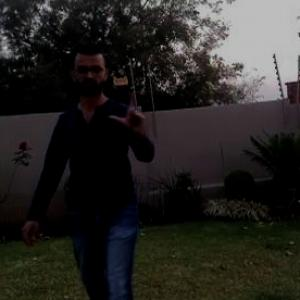land_hand: (108, 86, 149, 128)
